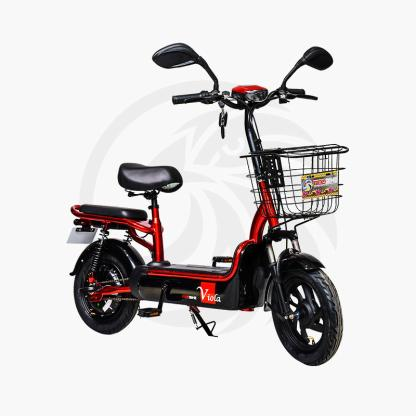Bike: (66, 33, 374, 372)
